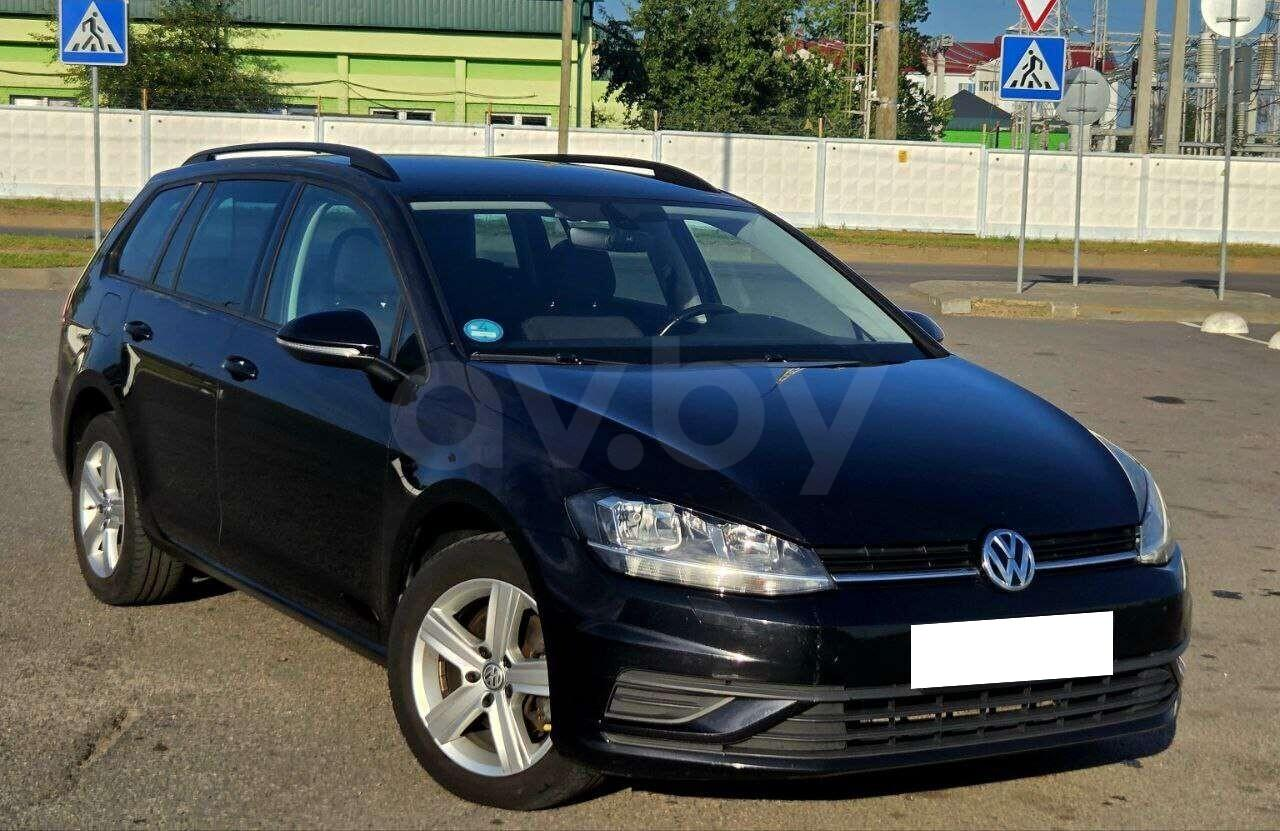Golf_2017-2021: (48, 137, 1193, 786)
